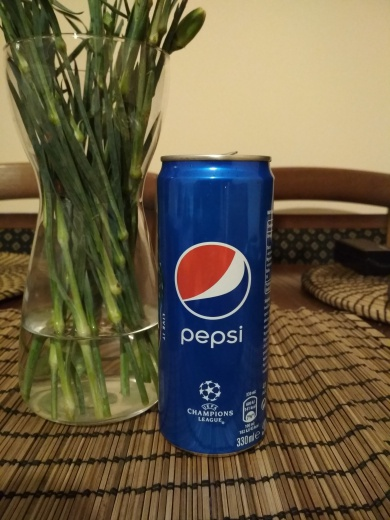pepsi: (150, 145, 283, 462)
